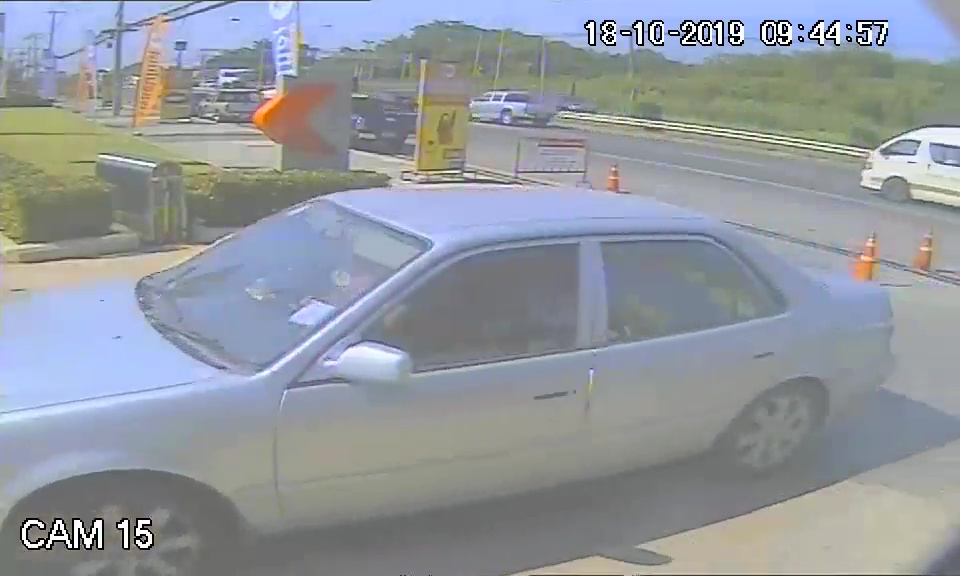sedan: (11, 185, 894, 517)
